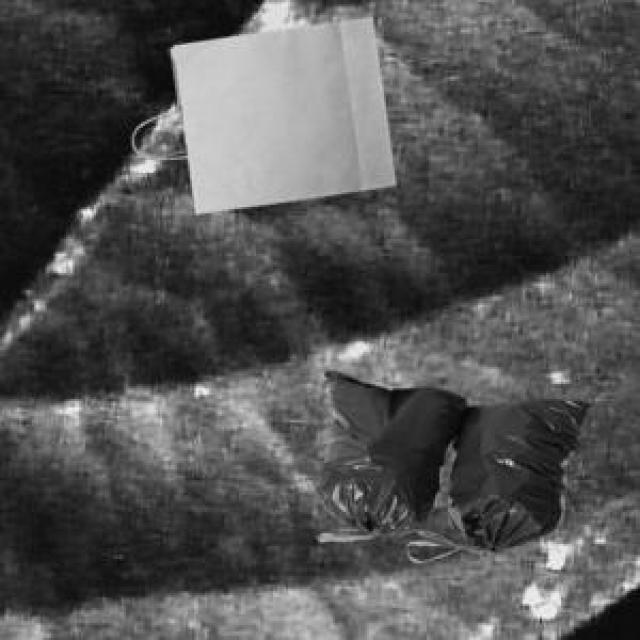miscellaneous trash: (312, 367, 587, 548)
paper: (166, 13, 390, 209)
